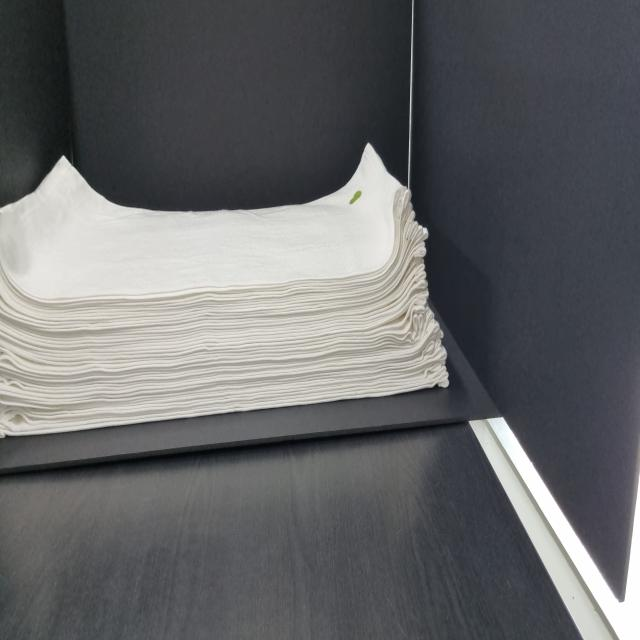not_50count_towel: (0, 146, 451, 432)
